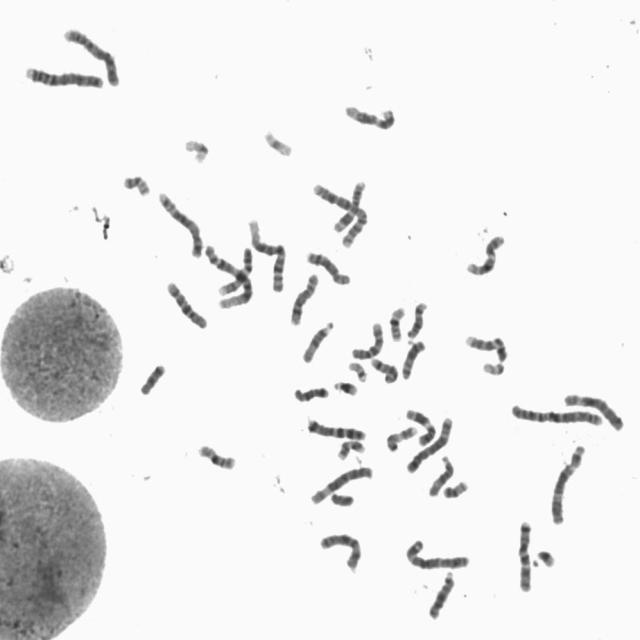A1: (201, 240, 255, 308), (244, 213, 288, 293)
A2: (309, 178, 370, 249), (507, 398, 606, 428)
A3: (546, 439, 588, 526), (401, 534, 471, 570)
B4: (59, 22, 122, 88), (20, 60, 106, 90)
B5: (153, 186, 205, 260), (402, 412, 454, 474)
C10: (162, 276, 209, 330), (347, 317, 386, 361)
C11: (329, 175, 369, 234), (401, 404, 437, 446)
C12: (462, 229, 506, 277), (340, 98, 398, 131)
C6: (306, 461, 375, 507), (560, 388, 626, 432)
C7: (303, 413, 368, 441), (513, 515, 534, 593)
C8: (286, 268, 320, 327), (302, 246, 352, 286)
C9: (214, 242, 255, 298), (462, 329, 509, 363)
D13: (424, 567, 456, 620), (397, 335, 428, 381)
D14: (403, 297, 429, 342), (367, 352, 399, 384)
D15: (298, 316, 336, 364), (424, 451, 456, 498)
E16: (194, 439, 238, 471), (385, 302, 407, 342)
E17: (382, 421, 418, 453), (335, 441, 370, 462)
E18: (136, 358, 168, 396), (290, 380, 330, 403)
F19: (258, 123, 294, 158), (180, 133, 210, 164)
F20: (118, 168, 152, 198), (439, 475, 470, 500)
G21: (531, 543, 558, 569), (330, 375, 359, 397)
G22: (344, 357, 369, 383), (478, 356, 506, 376)
X: (316, 527, 364, 573)
Y: (326, 488, 356, 508)
